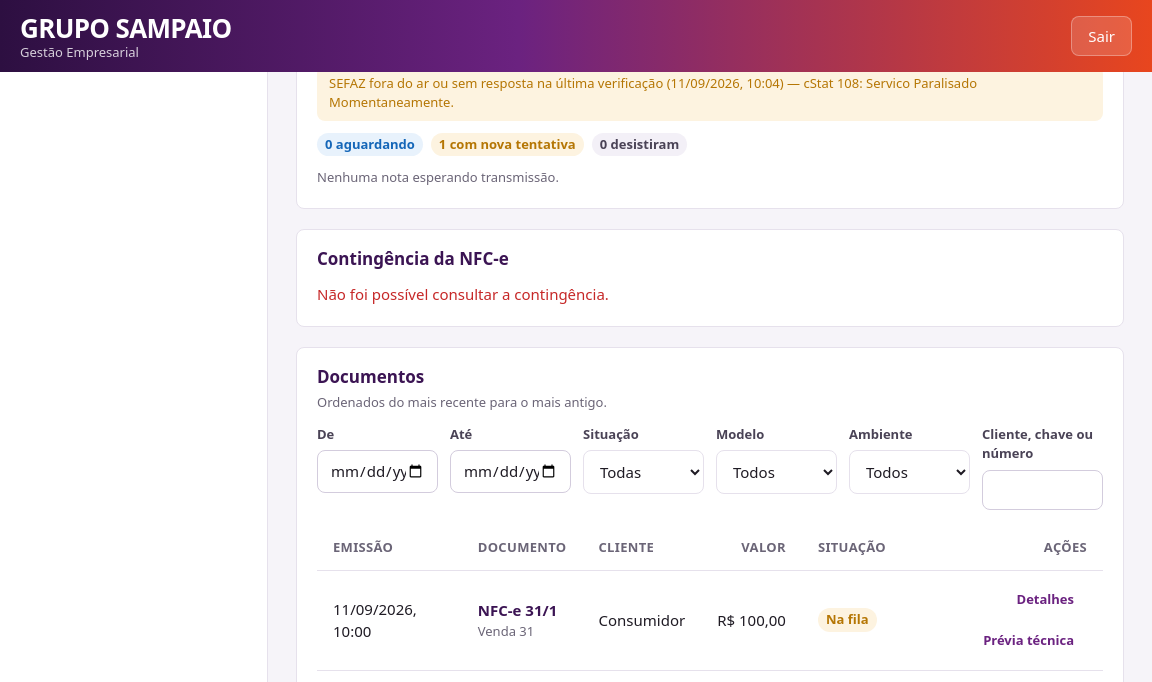
Test: o gesto no detalhe da nota › nota na fila: "Transmitir agora" no detalhe
This screenshot has width=1152, height=682.
(page scrolled)
What coordinates should you click on to do the following:
click the button "Detalhes"
I would click on:
 (1045, 599)
Its box is x1=1004 y1=582 x2=1087 y2=616.
(page scrolled)
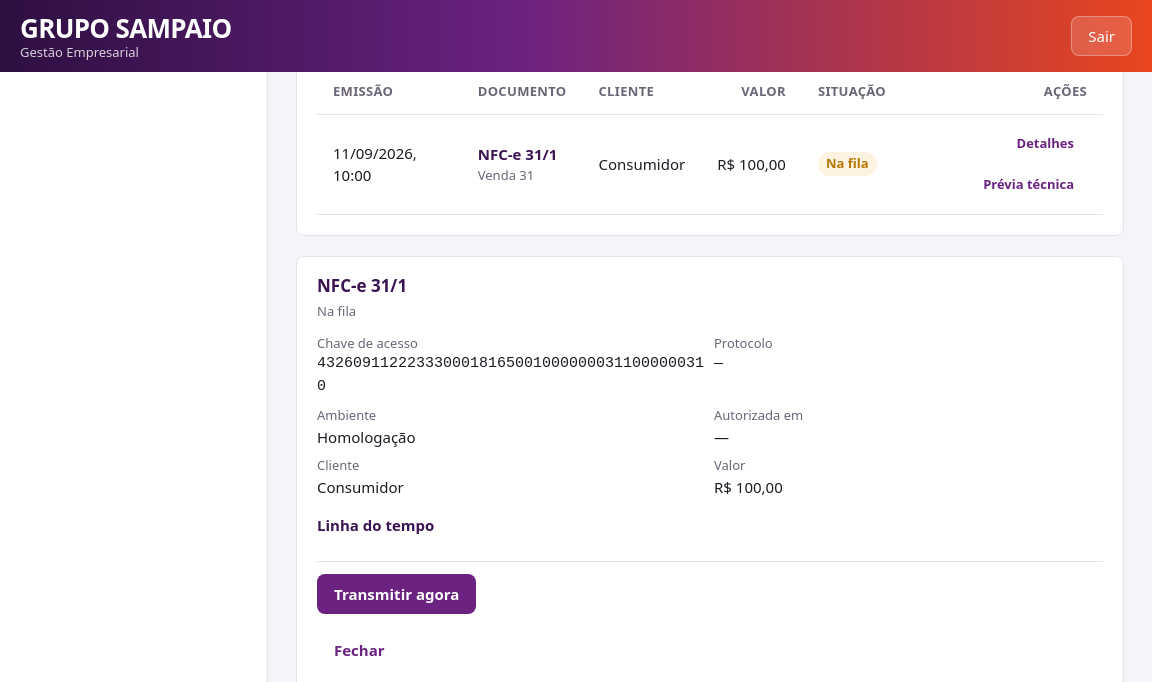
What coordinates should you click on to do the following:
click the button "Transmitir agora"
I would click on:
 (397, 594)
Its box is x1=317 y1=574 x2=476 y2=614.
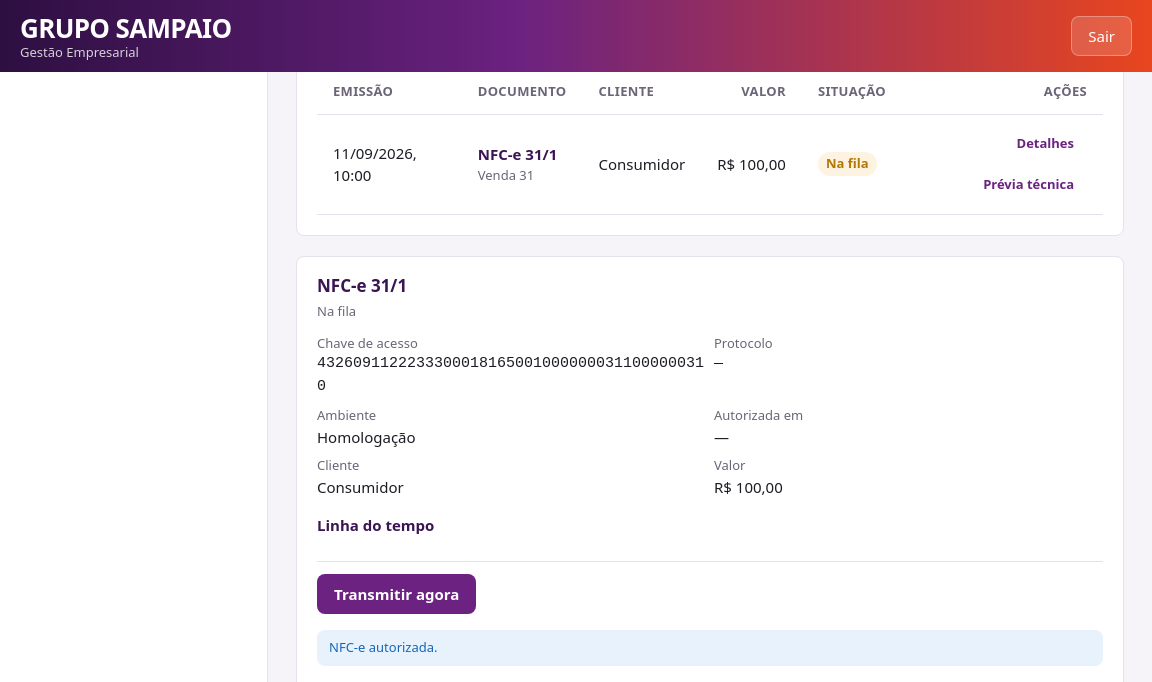
Now the text "NFC-e autorizada." is shown, box x1=317 y1=630 x2=1103 y2=666
